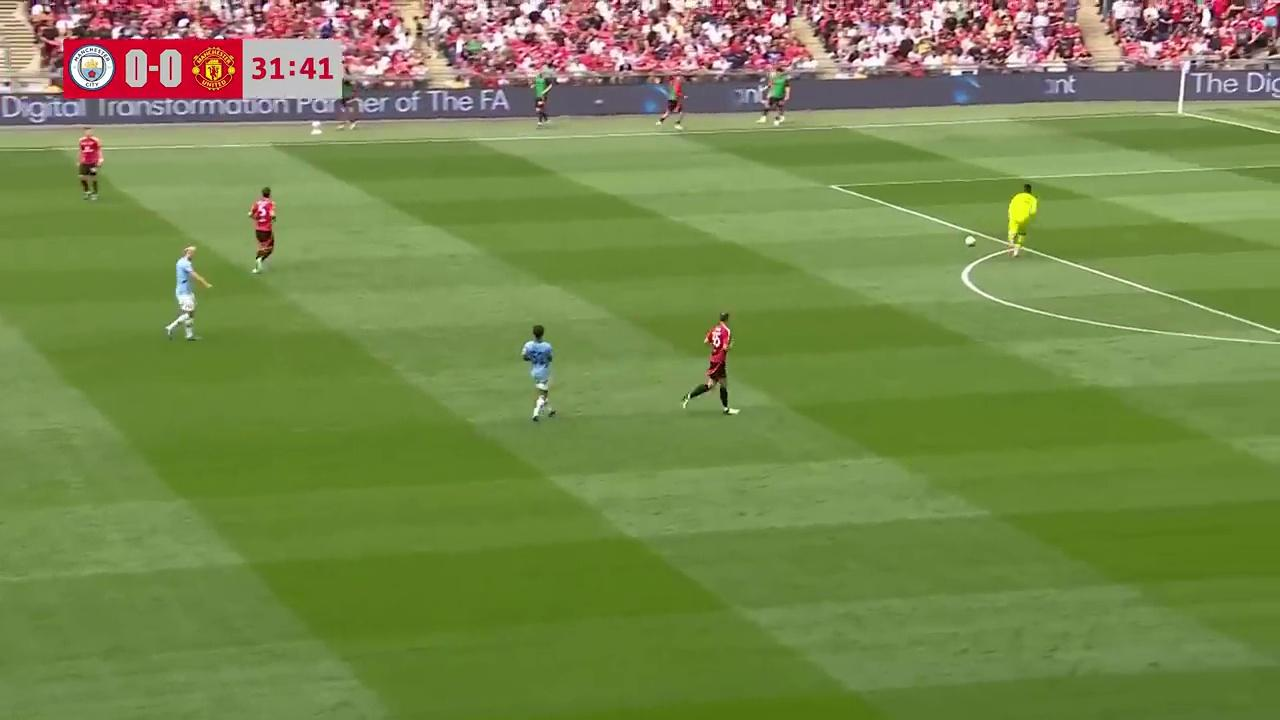ball: (963, 233, 980, 249)
player: (680, 311, 736, 415), (165, 244, 212, 340), (520, 325, 556, 424), (248, 186, 276, 274), (1007, 182, 1037, 258), (76, 131, 103, 201)
